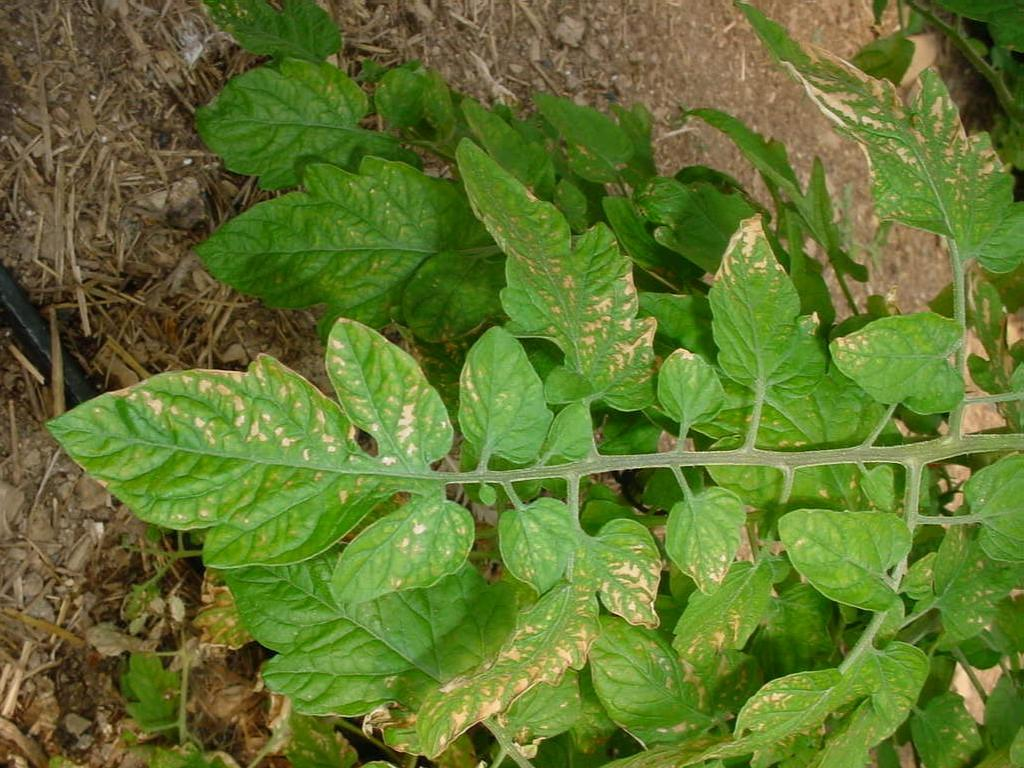Tomato leaf bacterial spot: (44, 330, 408, 581), (412, 490, 691, 753), (455, 134, 658, 450), (680, 184, 856, 406), (798, 276, 980, 455), (316, 299, 468, 480), (768, 491, 903, 646), (442, 324, 555, 472), (332, 490, 479, 599), (664, 459, 756, 592), (652, 339, 735, 438)
